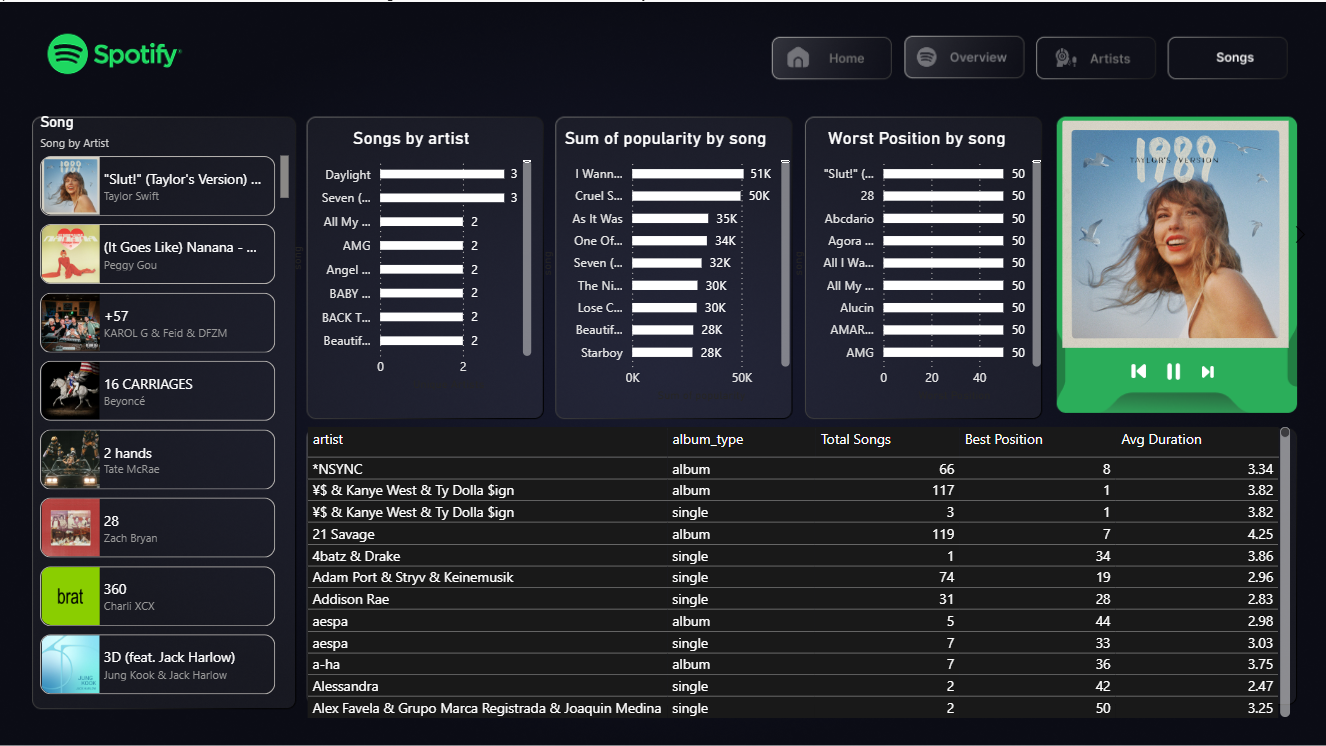

This screenshot's page, from the dashboard's own definition file:
{"tool":"powerbi","page":{"name":"Songs","canvas":[1280,720],"ordinal":3},"visuals":[{"type":"actionButton","box":[745.2,35.6,115.9,37.4],"z":0},{"type":"actionButton","box":[873.3,35.6,115.9,37.4],"z":1000},{"type":"actionButton","box":[1001.8,35.8,115.8,37.4],"z":2000},{"type":"actionButton","box":[1127,35.8,115.8,37.4],"z":3000},{"type":"advancedSlicerVisual","title":"Song ","fields":{"Values":["Top-50-World.song"]},"box":[998.8,107.1,271.4,233.3],"z":4000},{"type":"image","box":[1159,349.5,13.1,14.3],"z":5000},{"type":"image","box":[1086.9,348.8,23.8,15.5],"z":6000},{"type":"image","box":[1121.6,348.6,21.7,15.7],"z":7000},{"type":"clusteredBarChart","title":"Songs by artist","fields":{"Category":["Top-50-World.song"],"Y":["_measure.Unique Artists"]},"box":[276.5,120.2,241.6,259.9],"z":8000},{"type":"clusteredBarChart","fields":{"Category":["Top-50-World.song"],"Y":["Sum(Top-50-World.popularity)"]},"box":[517.6,120.6,249.7,270.2],"z":9000},{"type":"clusteredBarChart","fields":{"Category":["Top-50-World.song"],"Y":["_measure.Worst Position"]},"box":[760.1,120.6,249.7,270.2],"z":10000},{"type":"advancedSlicerVisual","title":"Song ","fields":{"Values":["Top-50-World.song"]},"box":[33.8,107.4,250.9,570.6],"z":11000},{"type":"tableEx","fields":{"Values":["Top-50-World.artist","Top-50-World.album_type","_measure.Total Songs","_measure.Best Position","_measure.Avg Duration"]},"box":[290.8,405.4,959.1,289.5],"z":12000}]}

Visuals, with their boxes in screenshot pixels (x1, y1, x2, y2), scaled from the page's 1280x720 canvas onto the 1326x746 screenshot:
actionButton: bbox=[772, 37, 892, 76]
actionButton: bbox=[905, 37, 1025, 76]
actionButton: bbox=[1038, 37, 1158, 76]
actionButton: bbox=[1168, 37, 1287, 76]
"Song " advancedSlicerVisual: bbox=[1035, 111, 1316, 353]
image: bbox=[1201, 362, 1214, 377]
image: bbox=[1126, 361, 1151, 377]
image: bbox=[1162, 361, 1184, 377]
"Songs by artist" clusteredBarChart: bbox=[286, 125, 537, 394]
clusteredBarChart - Top-50-World.song x Sum(Top-50-World.popularity): bbox=[536, 125, 795, 405]
clusteredBarChart - Top-50-World.song x _measure.Worst Position: bbox=[787, 125, 1046, 405]
"Song " advancedSlicerVisual: bbox=[35, 111, 295, 702]
tableEx - Top-50-World.artist x Top-50-World.album_type: bbox=[301, 420, 1295, 720]
